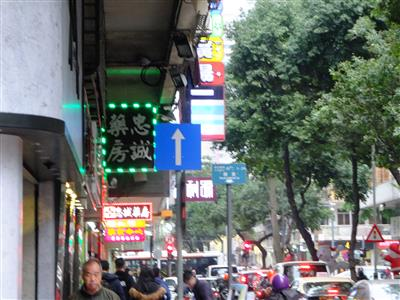oneway: (148, 118, 209, 175)
